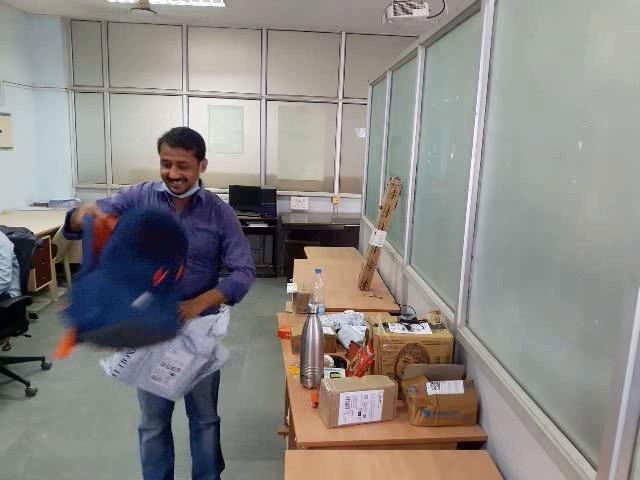shoplifting: (67, 211, 240, 396)
